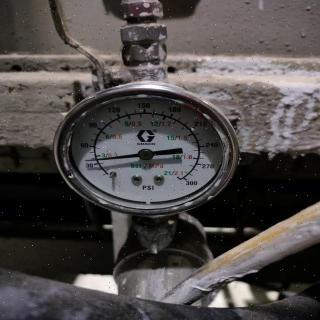gauge: (50, 82, 242, 216), (100, 166, 120, 190), (176, 173, 198, 189), (139, 148, 153, 160), (83, 156, 93, 163)
